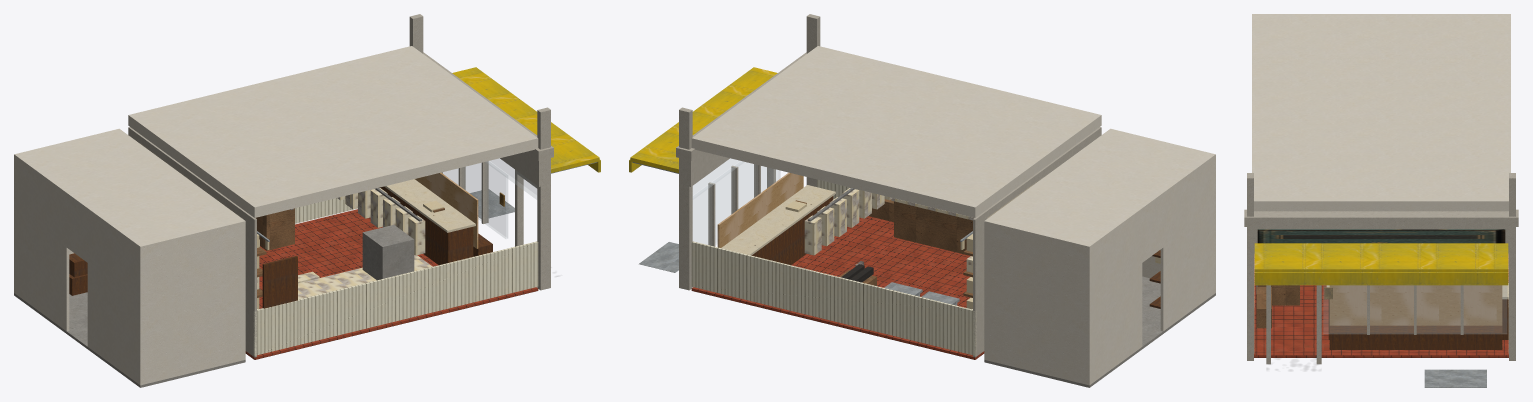
Rendered from shop_model_laundry.gltf.
The picture shows the model from 3 angles, left to right: view 1: azimuth 30°, elevation 25°; view 2: azimuth 150°, elevation 25°; view 3: azimuth 270°, elevation 25°; orthographic projection. The views are drawn at different scales.
Visible parts, largest first — view 1: F01_OWN_SHOP_MODEL_LAUNDRY_retail_shop_model_laundry_plaster (×2), F01_OWN_SHOP_MODEL_LAUNDRY_retail_shop_model_laundry_wainsco, F01_OWN_SHOP_MODEL_LAUNDRY_retail_shop_model_laundry_quarry_, F01_OWN_SHOP_MODEL_LAUNDRY_retail_shop_model_laundry_wood_da, F01_OWN_SHOP_MODEL_LAUNDRY_retail_shop_model_laundry_linen-c, F01_OWN_SHOP_MODEL_LAUNDRY_retail_shop_model_laundry_awning_, F01_OWN_SHOP_MODEL_LAUNDRY_retail_shop_model_laundry_glassis, F01_OWN_SHOP_MODEL_LAUNDRY_retail_shop_model_laundry_hull-co, F01_OWN_SHOP_MODEL_LAUNDRY_retail_shop_model_laundry_counter, F01_OWN_SHOP_MODEL_LAUNDRY_retail_shop_model_laundry_concret, F01_OWN_SHOP_MODEL_LAUNDRY_retail_shop_model_laundry_plywood, F01_OWN_SHOP_MODEL_LAUNDRY_retail_shop_model_laundry_timber- (+1 smaller); view 2: F01_OWN_SHOP_MODEL_LAUNDRY_retail_shop_model_laundry_plaster (×2), F01_OWN_SHOP_MODEL_LAUNDRY_retail_shop_model_laundry_wainsco, F01_OWN_SHOP_MODEL_LAUNDRY_retail_shop_model_laundry_quarry_, F01_OWN_SHOP_MODEL_LAUNDRY_retail_shop_model_laundry_glassis, F01_OWN_SHOP_MODEL_LAUNDRY_retail_shop_model_laundry_timber-, F01_OWN_SHOP_MODEL_LAUNDRY_retail_shop_model_laundry_awning_, F01_OWN_SHOP_MODEL_LAUNDRY_retail_shop_model_laundry_linen-c, F01_OWN_SHOP_MODEL_LAUNDRY_retail_shop_model_laundry_counter, F01_OWN_SHOP_MODEL_LAUNDRY_retail_shop_model_laundry_plywood, F01_OWN_SHOP_MODEL_LAUNDRY_retail_shop_model_laundry_concret, F01_OWN_SHOP_MODEL_LAUNDRY_retail_shop_model_laundry_wood_da, F01_OWN_SHOP_MODEL_LAUNDRY_retail_shop_model_laundry_metal-c (+1 smaller); view 3: F01_OWN_SHOP_MODEL_LAUNDRY_retail_shop_model_laundry_plaster (×2), F01_OWN_SHOP_MODEL_LAUNDRY_retail_shop_model_laundry_awning_, F01_OWN_SHOP_MODEL_LAUNDRY_retail_shop_model_laundry_glassis, F01_OWN_SHOP_MODEL_LAUNDRY_retail_shop_model_laundry_plywood, F01_OWN_SHOP_MODEL_LAUNDRY_retail_shop_model_laundry_quarry_, F01_OWN_SHOP_MODEL_LAUNDRY_retail_shop_model_laundry_wood_da, F01_OWN_SHOP_MODEL_LAUNDRY_retail_shop_model_laundry_book_te, F01_OWN_SHOP_MODEL_LAUNDRY_retail_shop_model_laundry_metal-c, F01_OWN_SHOP_MODEL_LAUNDRY_retail_shop_model_laundry_timber-.
Boxes of the visible parts, bbox=[...] form: F01_OWN_SHOP_MODEL_LAUNDRY_retail_shop_model_laundry_plaster (×2): bbox=[14, 14, 553, 385]; F01_OWN_SHOP_MODEL_LAUNDRY_retail_shop_model_laundry_wainsco: bbox=[253, 198, 538, 355]; F01_OWN_SHOP_MODEL_LAUNDRY_retail_shop_model_laundry_quarry_: bbox=[245, 209, 538, 359]; F01_OWN_SHOP_MODEL_LAUNDRY_retail_shop_model_laundry_wood_da: bbox=[69, 186, 492, 308]; F01_OWN_SHOP_MODEL_LAUNDRY_retail_shop_model_laundry_linen-c: bbox=[257, 188, 432, 299]; F01_OWN_SHOP_MODEL_LAUNDRY_retail_shop_model_laundry_awning_: bbox=[452, 67, 600, 172]; F01_OWN_SHOP_MODEL_LAUNDRY_retail_shop_model_laundry_glassis: bbox=[442, 158, 536, 238]; F01_OWN_SHOP_MODEL_LAUNDRY_retail_shop_model_laundry_hull-co: bbox=[362, 225, 414, 280]; F01_OWN_SHOP_MODEL_LAUNDRY_retail_shop_model_laundry_counter: bbox=[384, 179, 475, 232]; F01_OWN_SHOP_MODEL_LAUNDRY_retail_shop_model_laundry_concret: bbox=[14, 292, 245, 387]; F01_OWN_SHOP_MODEL_LAUNDRY_retail_shop_model_laundry_plywood: bbox=[415, 172, 478, 248]; F01_OWN_SHOP_MODEL_LAUNDRY_retail_shop_model_laundry_timber-: bbox=[256, 208, 444, 297]; F01_OWN_SHOP_MODEL_LAUNDRY_retail_shop_model_laundry_plaster (×2): bbox=[676, 14, 1215, 385]; F01_OWN_SHOP_MODEL_LAUNDRY_retail_shop_model_laundry_wainsco: bbox=[691, 179, 976, 355]; F01_OWN_SHOP_MODEL_LAUNDRY_retail_shop_model_laundry_quarry_: bbox=[691, 216, 984, 359]; F01_OWN_SHOP_MODEL_LAUNDRY_retail_shop_model_laundry_glassis: bbox=[692, 158, 780, 244]; F01_OWN_SHOP_MODEL_LAUNDRY_retail_shop_model_laundry_timber-: bbox=[795, 199, 972, 297]; F01_OWN_SHOP_MODEL_LAUNDRY_retail_shop_model_laundry_awning_: bbox=[629, 67, 777, 172]; F01_OWN_SHOP_MODEL_LAUNDRY_retail_shop_model_laundry_linen-c: bbox=[804, 188, 973, 272]; F01_OWN_SHOP_MODEL_LAUNDRY_retail_shop_model_laundry_counter: bbox=[721, 185, 835, 255]; F01_OWN_SHOP_MODEL_LAUNDRY_retail_shop_model_laundry_plywood: bbox=[717, 172, 803, 247]; F01_OWN_SHOP_MODEL_LAUNDRY_retail_shop_model_laundry_concret: bbox=[984, 276, 1215, 387]; F01_OWN_SHOP_MODEL_LAUNDRY_retail_shop_model_laundry_wood_da: bbox=[752, 196, 1160, 308]; F01_OWN_SHOP_MODEL_LAUNDRY_retail_shop_model_laundry_metal-c: bbox=[632, 162, 972, 304]; F01_OWN_SHOP_MODEL_LAUNDRY_retail_shop_model_laundry_plaster (×2): bbox=[1244, 14, 1518, 364]; F01_OWN_SHOP_MODEL_LAUNDRY_retail_shop_model_laundry_awning_: bbox=[1254, 243, 1508, 285]; F01_OWN_SHOP_MODEL_LAUNDRY_retail_shop_model_laundry_glassis: bbox=[1254, 254, 1508, 333]; F01_OWN_SHOP_MODEL_LAUNDRY_retail_shop_model_laundry_plywood: bbox=[1329, 285, 1502, 325]; F01_OWN_SHOP_MODEL_LAUNDRY_retail_shop_model_laundry_quarry_: bbox=[1254, 254, 1508, 357]; F01_OWN_SHOP_MODEL_LAUNDRY_retail_shop_model_laundry_wood_da: bbox=[1328, 299, 1508, 349]; F01_OWN_SHOP_MODEL_LAUNDRY_retail_shop_model_laundry_book_te: bbox=[1257, 229, 1505, 243]; F01_OWN_SHOP_MODEL_LAUNDRY_retail_shop_model_laundry_metal-c: bbox=[1424, 369, 1486, 387]; F01_OWN_SHOP_MODEL_LAUNDRY_retail_shop_model_laundry_timber-: bbox=[1256, 285, 1299, 328].
Bounding box in the file's own units: 11.42 × 4.25 × 5.72.
Materials: 32 (30 with a texture image).
